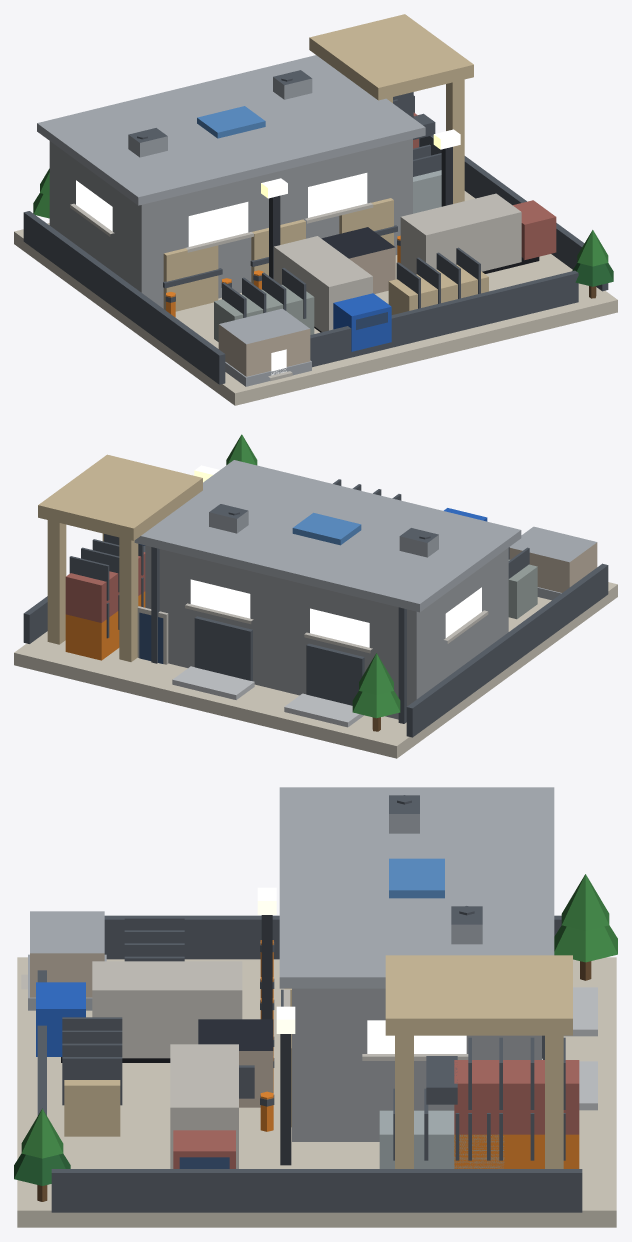
3 renders of one model, top to bottom at view 1: azimuth 30°, elevation 25°; view 2: azimuth 150°, elevation 25°; view 3: azimuth 270°, elevation 25°, orthographic. The views are drawn at different scales.
Visible parts, largest first — view 1: b33; view 2: b33; view 3: b33.
Part boxes in pixels (x1,y1,x2,y2): b33: (14, 14, 617, 405); b33: (14, 434, 617, 758); b33: (14, 787, 617, 1227).
Size of the model in its own units: 0.98 by 0.369 by 0.9674.
